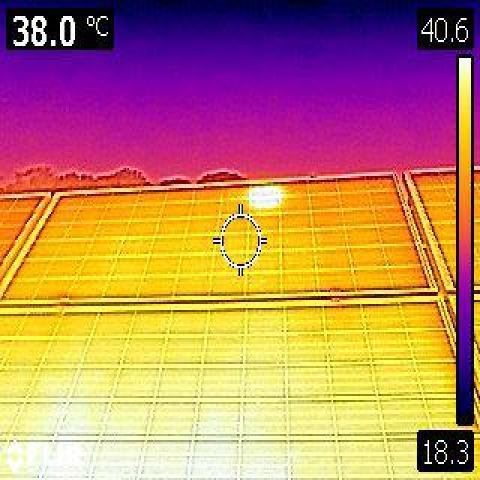fault: (251, 185, 278, 210)
